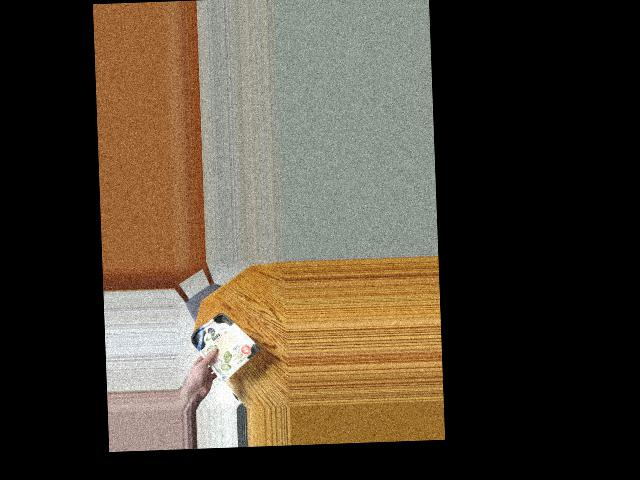cheese: (195, 311, 252, 370)
